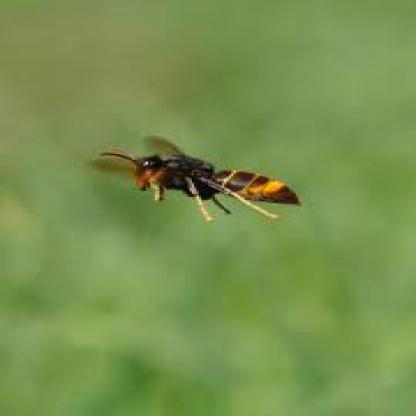asian: (78, 134, 328, 244)
